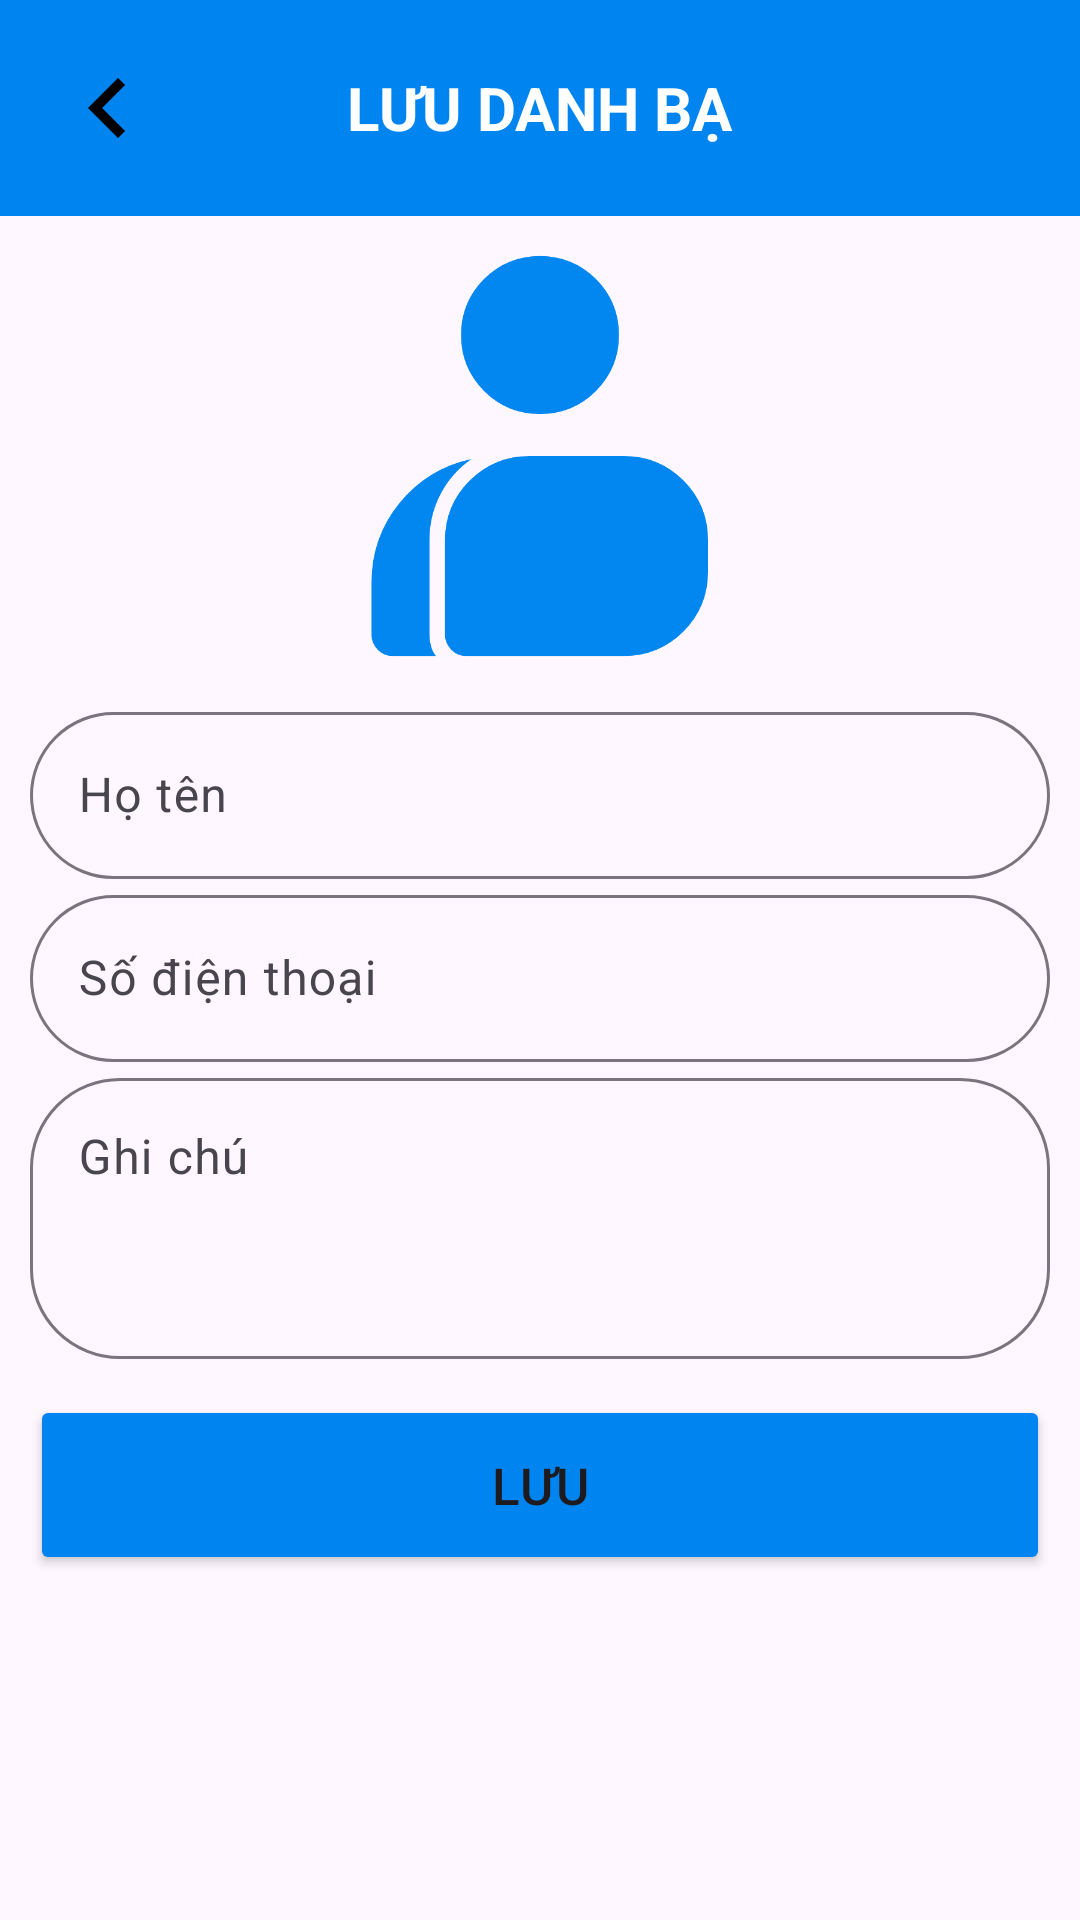

Screen size 1080px x 1920px. Icon name, then its box in pixels as (x1, y1, x2, y2):
arrow back: (88, 78, 125, 138)
